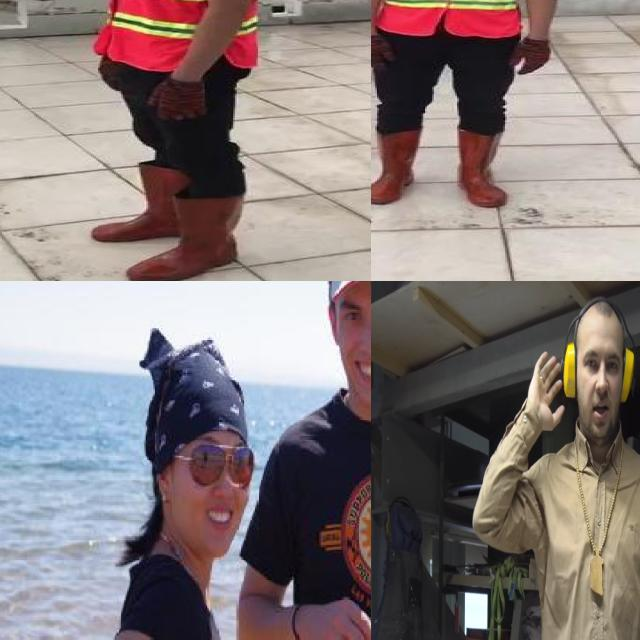Ear-protection: (561, 297, 640, 451)
boots: (124, 194, 242, 281), (92, 163, 190, 244), (454, 128, 512, 209), (371, 129, 423, 205)
face_nomask: (177, 437, 251, 530), (337, 289, 371, 382)
glasses: (164, 443, 250, 498)
hand_glove: (148, 81, 206, 120), (508, 41, 550, 77), (371, 34, 400, 73)
hand_noglove: (305, 593, 371, 640)
head_nohelmet: (279, 281, 371, 640), (145, 333, 249, 460)
person: (57, 326, 255, 640), (70, 0, 285, 281), (371, 0, 568, 213)
vest: (98, 0, 272, 73), (375, 0, 524, 38)
